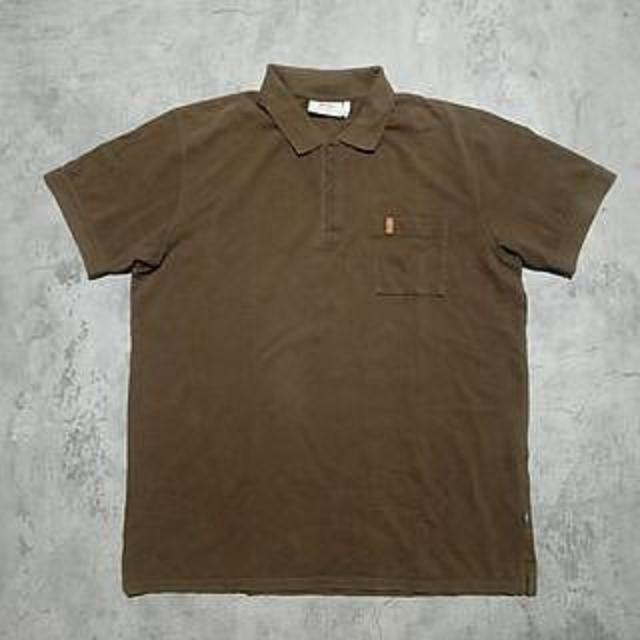T_SHIRT: (28, 51, 624, 607)
